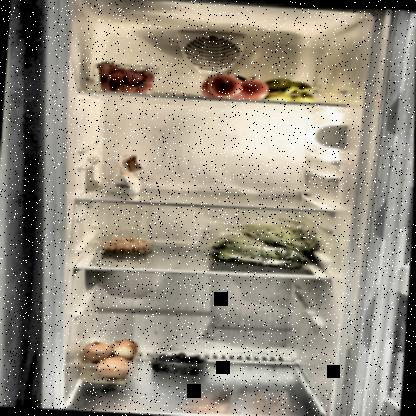banana: (263, 76, 319, 104)
blueberries: (152, 350, 210, 376)
green_beans: (210, 212, 323, 252)
onion: (81, 335, 138, 379)
shrimp: (103, 234, 153, 254)
spinach: (200, 220, 320, 270)
strawberries: (92, 58, 162, 93)
tomato: (198, 66, 271, 102)
